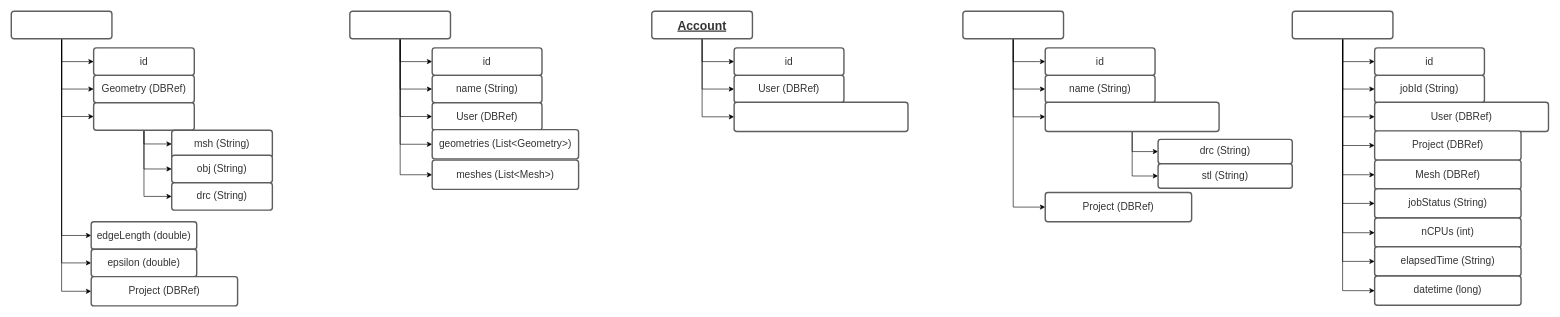
Some shapes in this 1560 by 317 pixel diagram are drawn without their labels. Here are the shapes that lost their labels. From the top down, the centre of each, then its label:
At point (61, 24): "Mesh".
At point (400, 24): "Project".
At point (1013, 24): "Geometry".
At point (1342, 24): "Job".
At point (144, 116): "Output (Map)".
At point (820, 116): "jobList (Map<String, List<Job>>)".
At point (1132, 116): "inputLink (Map)".
